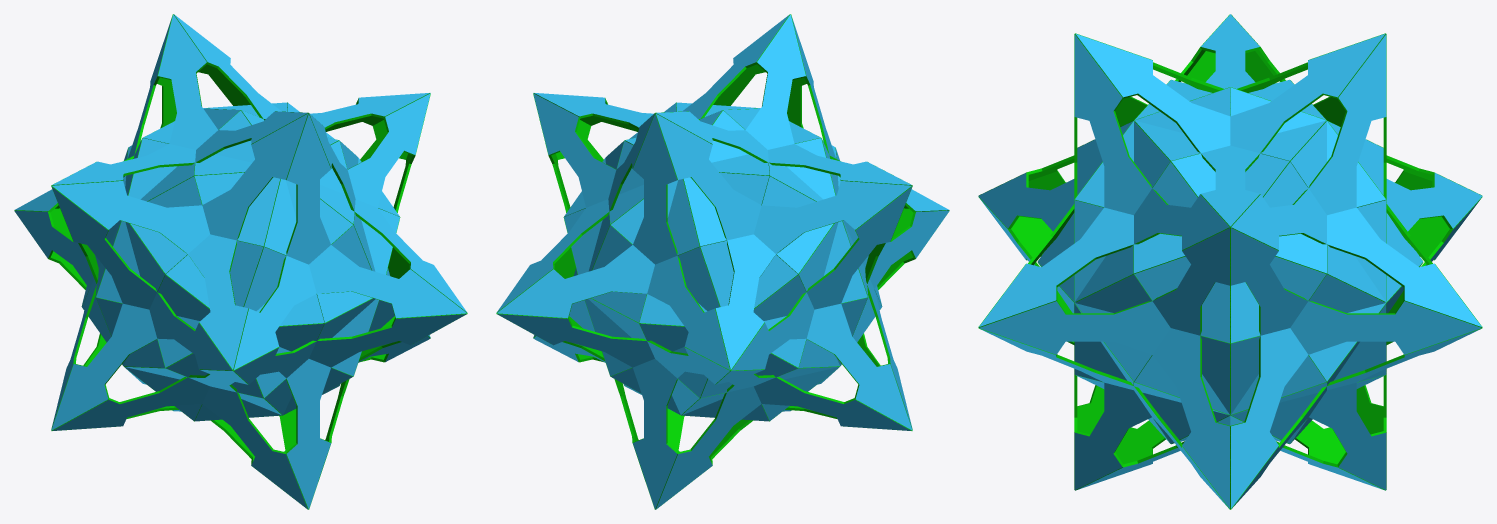
Rendered from MedialRhombicTriacontahedronS.glb.
3 renders of one model, left to right at view 1: azimuth 30°, elevation 25°; view 2: azimuth 150°, elevation 25°; view 3: azimuth 270°, elevation 25°, orthographic. The views are drawn at different scales.
Visible parts, largest first — view 1: root; view 2: root; view 3: root.
Part boxes in pixels (bbox=[...]): root: bbox=[14, 14, 467, 509]; root: bbox=[496, 14, 949, 509]; root: bbox=[978, 14, 1482, 509].
Size of the model in its own units: 8.5 by 8.5 by 8.5.
